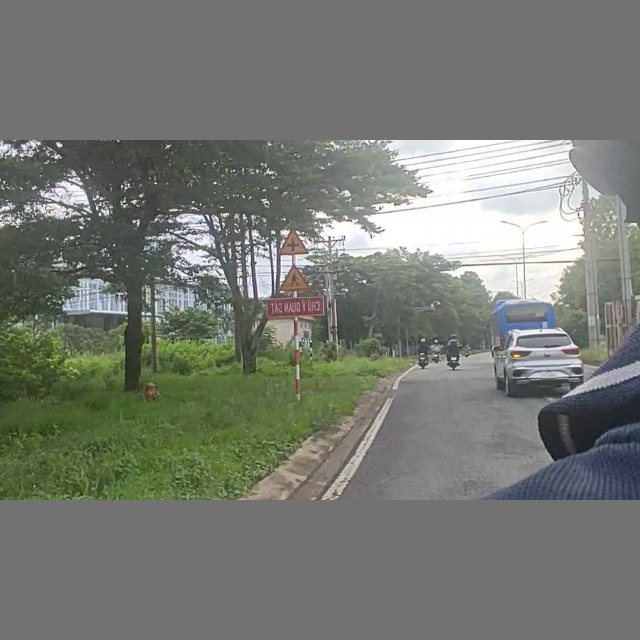W.205a: (275, 228, 309, 257)
W.224: (274, 263, 312, 293)
